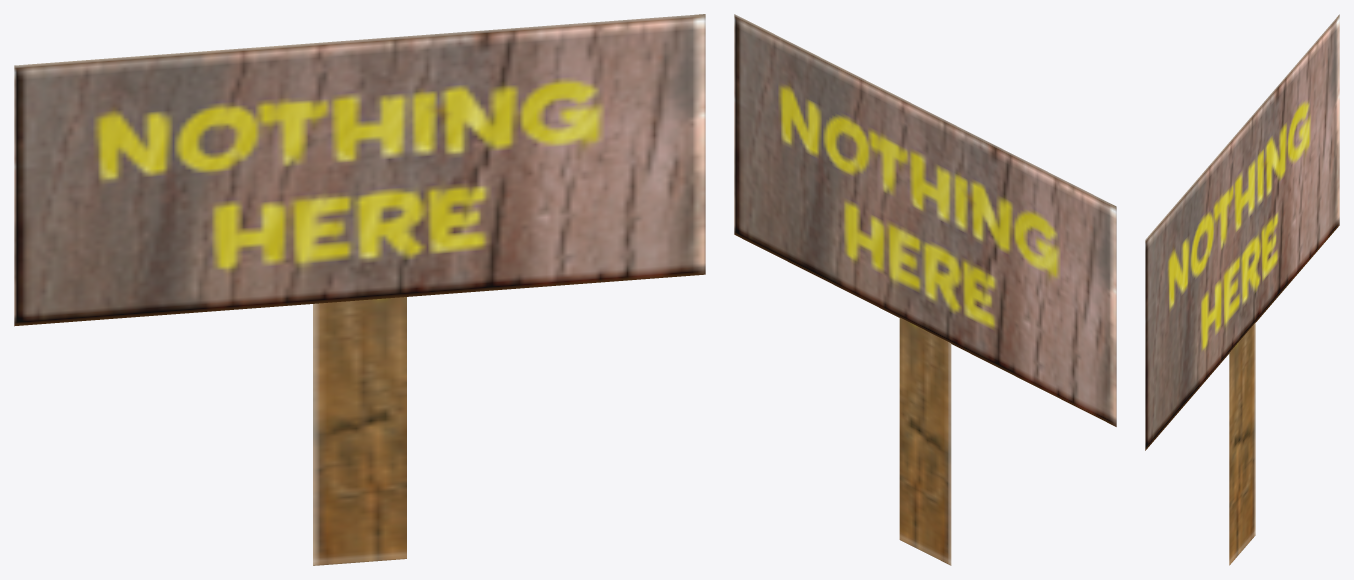
The model's file is wrongtway12.glb.
The picture shows the model from 3 angles, left to right: view 1: azimuth 30°, elevation 25°; view 2: azimuth 150°, elevation 25°; view 3: azimuth 270°, elevation 25°; orthographic projection. The views are drawn at different scales.
Parts seen in each view (by area): view 1: wrongtway12; view 2: wrongtway12; view 3: wrongtway12.
Part boxes in pixels (x1,y1,x2,y2): wrongtway12: (14,14,705,565); wrongtway12: (734,14,1116,565); wrongtway12: (1145,14,1339,565).
Size of the model in its own units: 536 by 469 by 195.
Materials: 1 (1 with a texture image).
